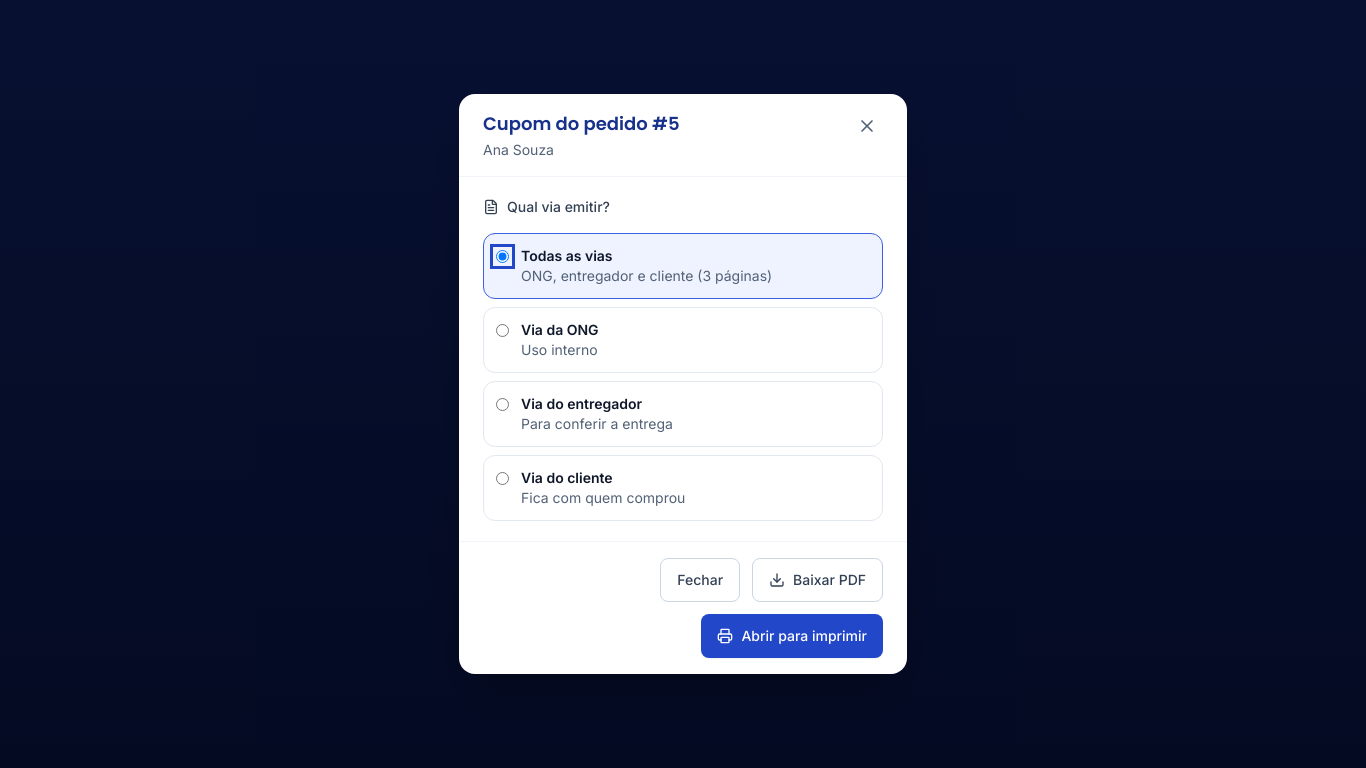
CupomModal › se o navegador bloquear a janela, orienta a baixar o PDF
This screenshot has width=1366, height=768.
Click the button "Abrir para imprimir": (792, 636) [701,614,883,658]
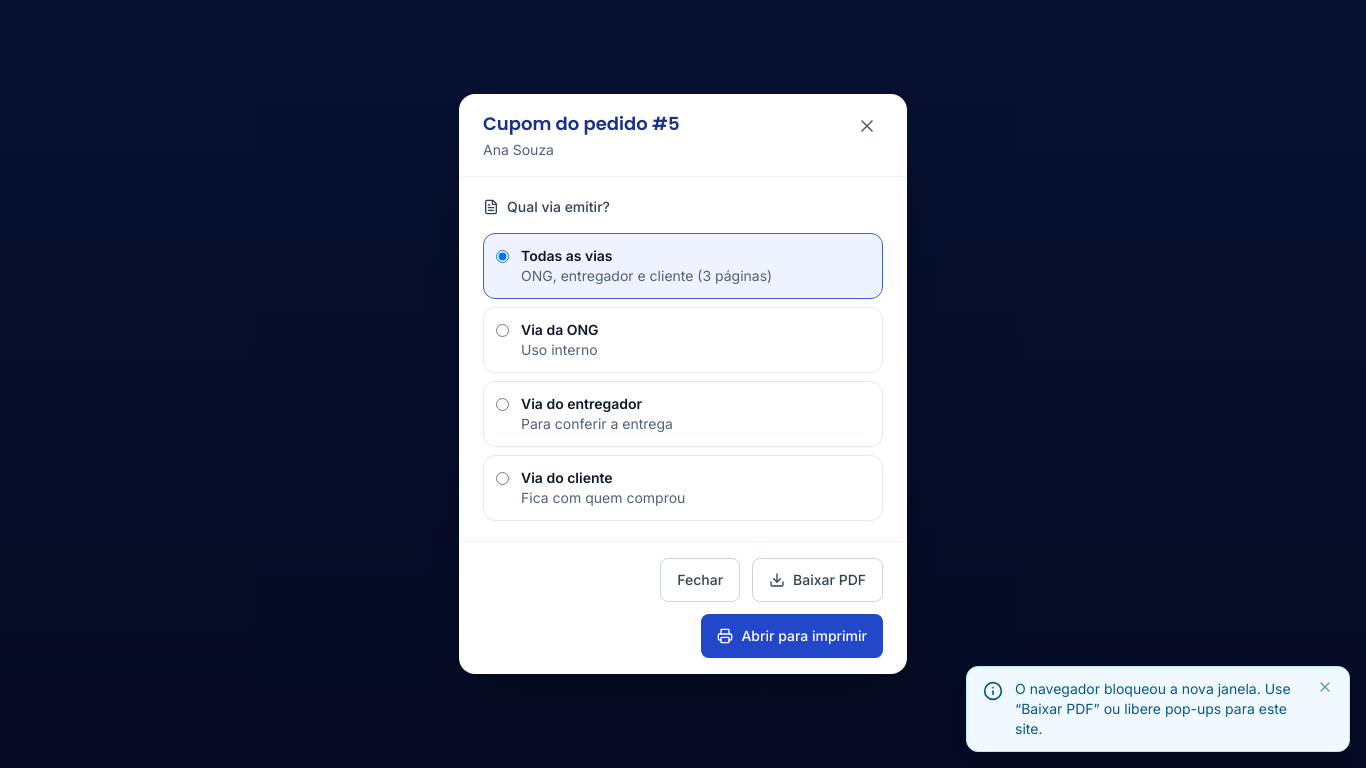
Check: the text "bloqueou a nova janela" is shown, box [1015,680,1291,737]
